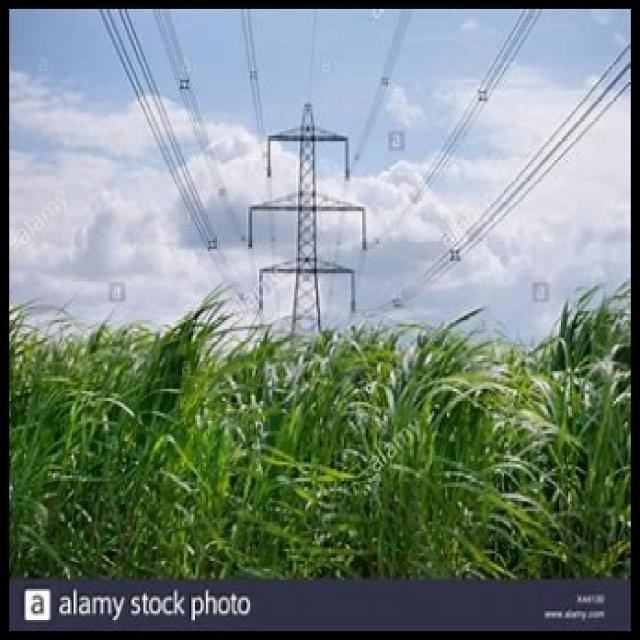utility poles: (248, 91, 372, 580)
